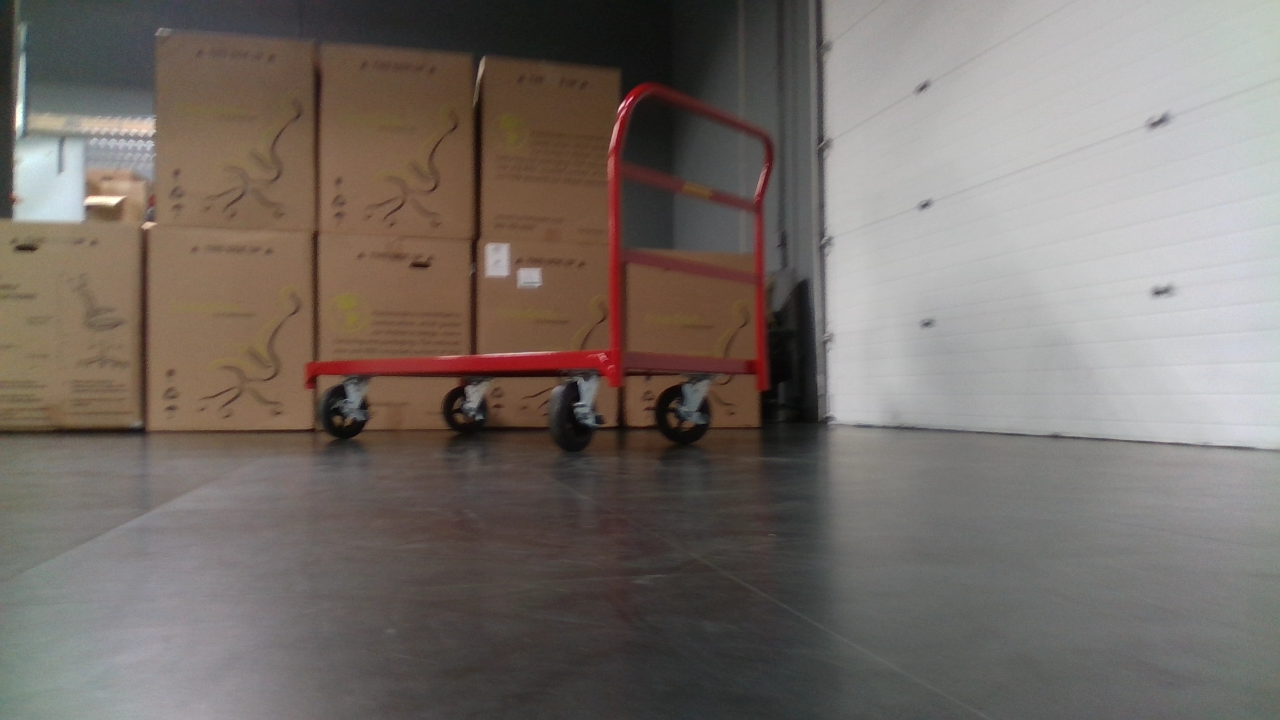Dolly: (301, 78, 791, 455)
Wheel: (651, 382, 713, 444), (544, 382, 594, 453), (316, 383, 371, 438), (440, 388, 490, 436)
